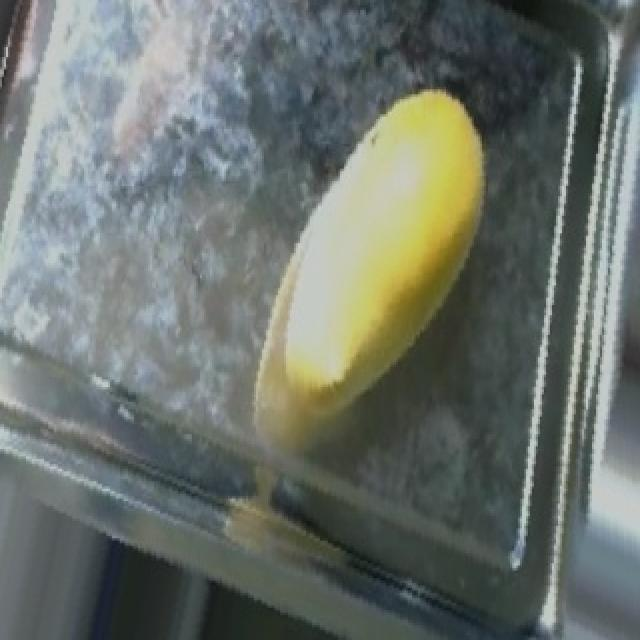fruit: (296, 67, 528, 429)
